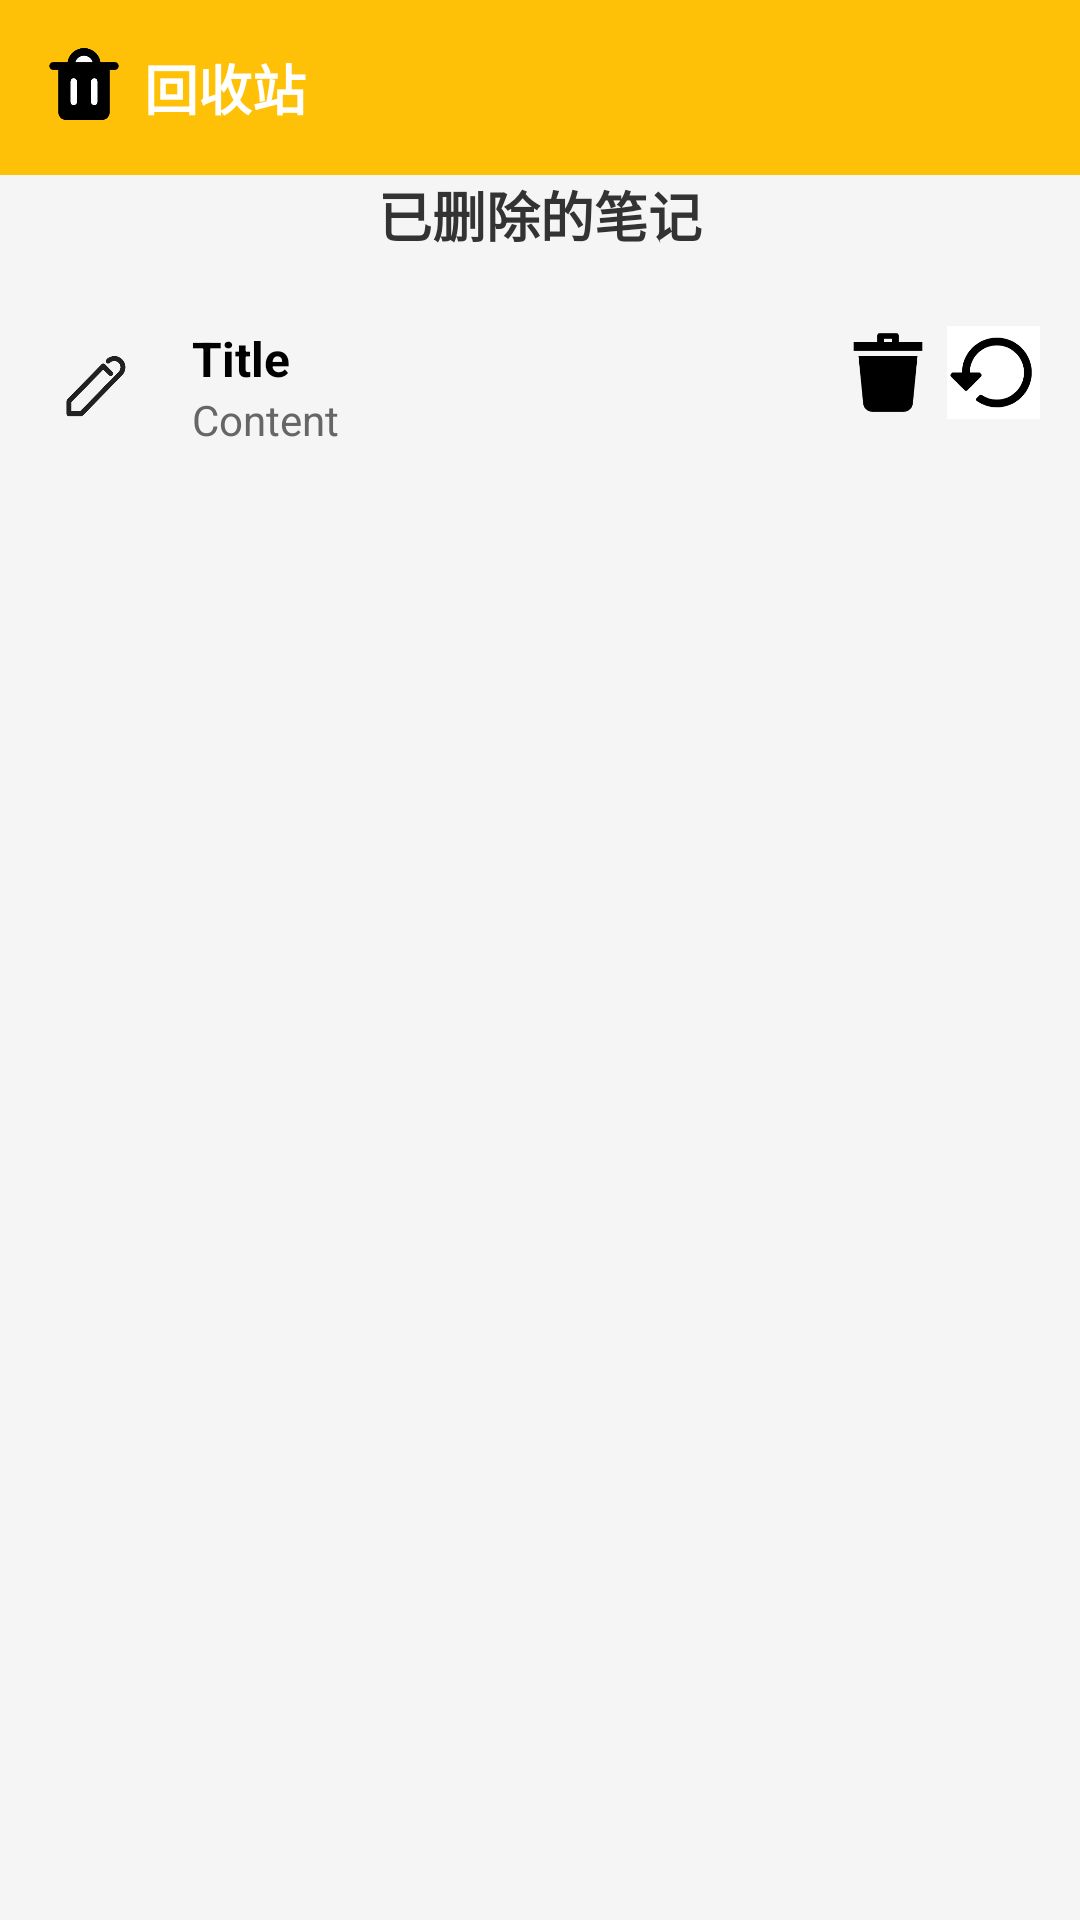

Icon bounding boxes for this 1080x1920 phone screenshot, format (x1, y1, x2, y2):
delete: (853, 333, 923, 412)
Note Icon: (66, 356, 126, 416)
Recycle Bin Icon: (49, 48, 119, 120)
restore: (947, 326, 1040, 419)
